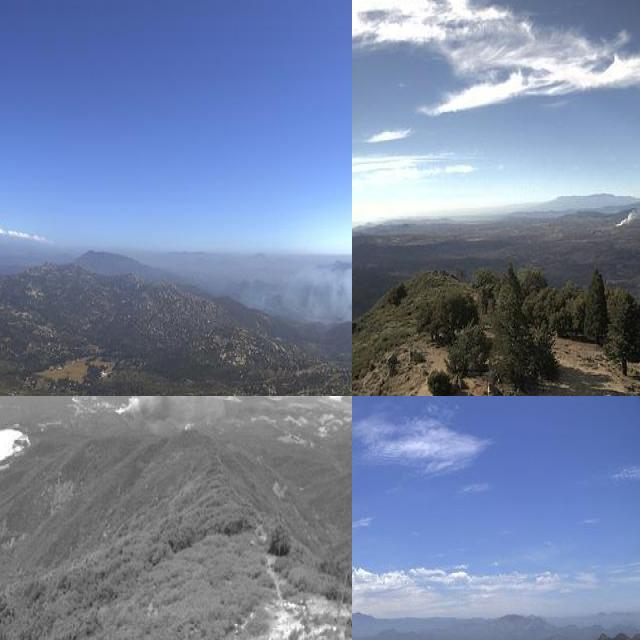smoke: (231, 259, 352, 334), (612, 177, 640, 227)
